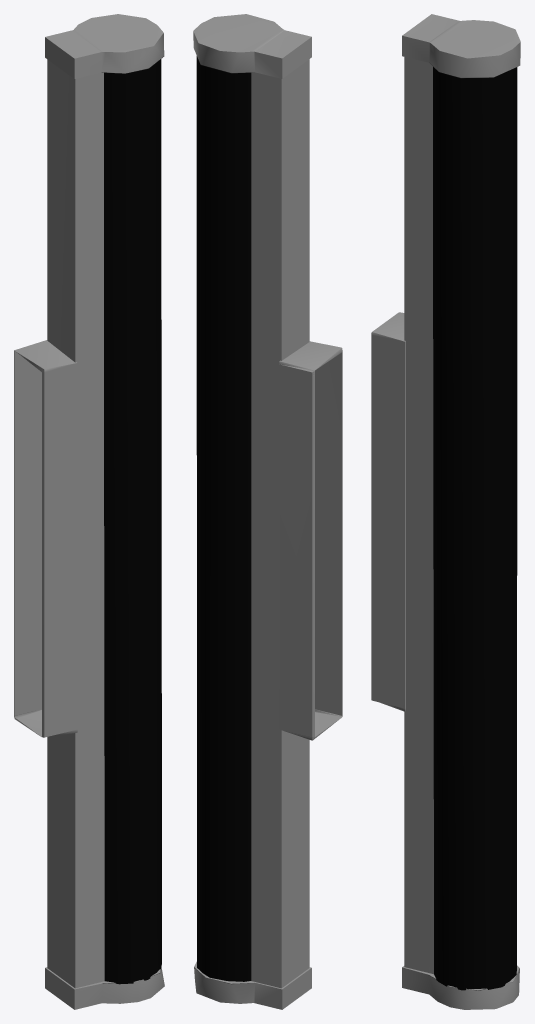
Rendered from WallLight0002.obj.
The picture shows the model from 3 angles, left to right: view 1: azimuth 30°, elevation 25°; view 2: azimuth 150°, elevation 25°; view 3: azimuth 330°, elevation 25°; orthographic projection.
Bounding box in the file's own units: 0.086 × 0.602 × 0.052.
Materials: 1 (1 with a texture image).
